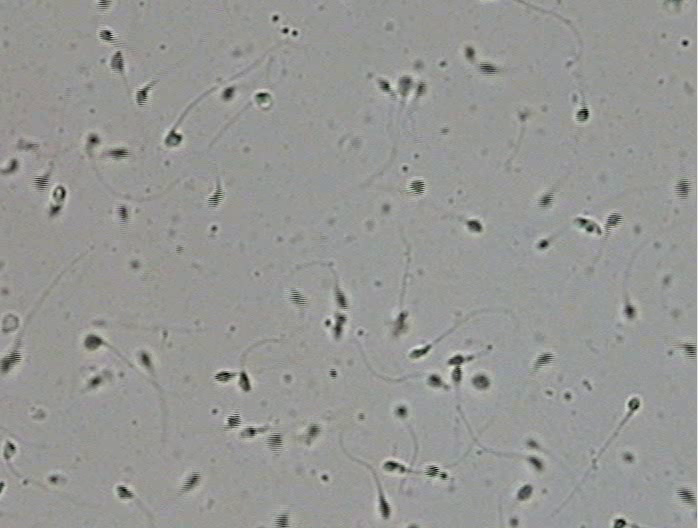S: (573, 217, 602, 236), (1, 351, 22, 373), (182, 472, 201, 492), (423, 465, 448, 480), (332, 314, 347, 338), (676, 486, 696, 504), (266, 432, 283, 453), (289, 288, 307, 307), (674, 179, 691, 199), (679, 342, 697, 360), (110, 51, 125, 72), (334, 290, 349, 310), (238, 371, 252, 392), (32, 175, 49, 192), (378, 495, 390, 519), (536, 352, 554, 368), (84, 335, 103, 350), (398, 76, 412, 96), (478, 62, 498, 76), (517, 484, 533, 501), (165, 131, 183, 146), (208, 189, 223, 207), (605, 213, 623, 228), (410, 346, 430, 359), (527, 455, 543, 471), (227, 412, 242, 429), (52, 185, 67, 202), (109, 148, 130, 160), (395, 312, 407, 333), (3, 440, 16, 459), (409, 180, 425, 195), (538, 193, 554, 208), (116, 485, 133, 499), (273, 514, 290, 528), (472, 375, 489, 389), (136, 88, 149, 106), (450, 365, 463, 383), (117, 204, 129, 223), (575, 107, 590, 122), (214, 371, 233, 382), (240, 426, 257, 438), (99, 29, 114, 42), (427, 374, 442, 387), (467, 220, 483, 232), (378, 79, 391, 93), (447, 355, 465, 365), (464, 46, 476, 61), (623, 304, 635, 319), (255, 92, 271, 103), (306, 425, 319, 438), (222, 87, 234, 101), (7, 159, 19, 173), (86, 134, 100, 146), (49, 203, 61, 217), (628, 397, 640, 411), (140, 352, 151, 367), (415, 82, 426, 97), (383, 461, 398, 471), (613, 518, 627, 528), (395, 407, 407, 418), (96, 1, 110, 10), (537, 239, 549, 249), (90, 377, 101, 387), (526, 439, 538, 448), (1, 482, 4, 493)
